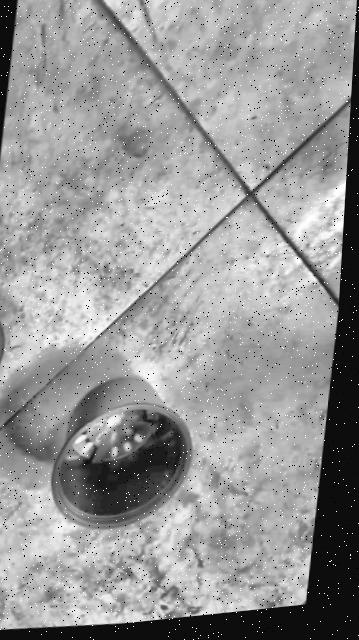pot: (41, 367, 199, 539)
